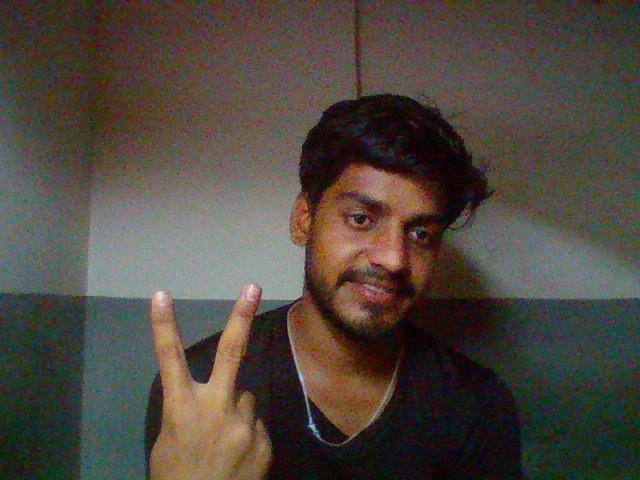V: (123, 270, 287, 480)
